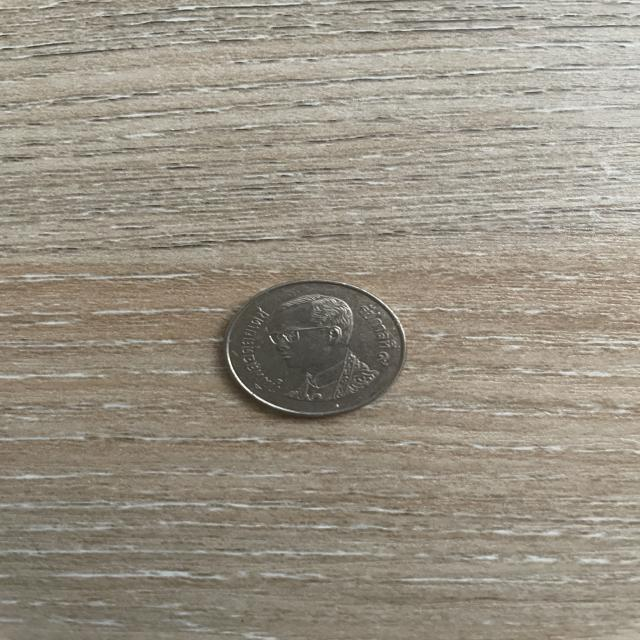1 Bath: (217, 276, 412, 427)
